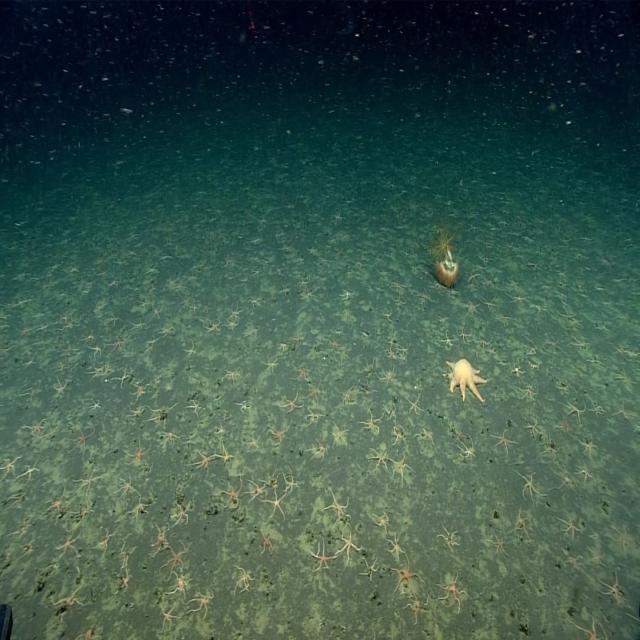brittle-stars: (441, 574, 466, 610), (575, 617, 613, 640), (76, 465, 105, 495), (396, 559, 422, 592), (516, 470, 541, 504), (598, 574, 624, 606), (164, 544, 187, 578), (337, 531, 360, 564), (52, 586, 84, 609), (327, 490, 351, 520), (311, 542, 334, 573), (611, 526, 635, 555), (408, 592, 430, 623), (221, 478, 243, 508), (193, 589, 215, 618), (126, 441, 150, 467), (70, 428, 94, 453), (267, 492, 287, 522), (614, 400, 638, 425), (553, 466, 576, 492), (58, 531, 79, 558), (492, 430, 514, 455), (558, 514, 579, 540), (440, 524, 461, 550), (235, 565, 255, 592), (391, 452, 411, 479), (514, 508, 531, 538), (564, 400, 586, 423), (489, 530, 508, 556), (47, 488, 66, 514), (360, 411, 381, 434), (0, 454, 19, 479), (172, 500, 190, 526), (162, 603, 180, 629), (152, 405, 174, 426), (246, 479, 266, 502), (22, 458, 42, 481), (309, 439, 328, 463), (131, 496, 150, 520), (78, 622, 103, 640), (6, 490, 27, 511), (282, 391, 302, 413), (369, 448, 388, 471), (172, 572, 191, 595), (94, 532, 112, 556), (120, 542, 137, 567), (269, 423, 289, 444), (260, 470, 281, 490), (575, 461, 594, 483), (116, 476, 135, 498), (154, 526, 170, 552), (361, 556, 378, 580), (15, 384, 40, 400), (615, 369, 636, 388), (75, 502, 93, 524), (518, 383, 538, 402), (195, 451, 215, 470), (28, 418, 47, 438), (334, 422, 349, 447), (307, 381, 324, 403), (543, 439, 560, 461), (588, 550, 606, 570), (388, 535, 404, 557), (262, 530, 276, 555), (8, 524, 31, 539), (564, 551, 582, 570), (557, 416, 574, 436), (374, 512, 390, 533), (54, 377, 69, 399), (341, 385, 356, 407), (223, 368, 241, 386), (108, 337, 126, 355), (161, 430, 180, 447), (460, 440, 476, 460), (525, 418, 541, 438), (570, 336, 590, 352), (379, 369, 396, 387), (408, 395, 424, 414), (216, 445, 232, 464), (283, 474, 298, 494), (119, 568, 132, 591), (307, 409, 324, 426), (456, 327, 472, 345), (60, 342, 78, 358), (612, 343, 630, 359), (587, 353, 606, 368), (582, 440, 598, 457), (419, 426, 434, 444), (417, 286, 432, 304), (384, 404, 398, 423), (392, 425, 406, 444), (482, 294, 498, 310), (264, 357, 280, 373), (230, 304, 246, 320), (133, 382, 148, 399), (293, 364, 308, 381), (509, 290, 526, 305), (590, 400, 604, 418), (115, 370, 129, 388), (512, 358, 525, 377), (361, 358, 374, 377), (186, 398, 201, 414), (464, 300, 479, 316), (130, 404, 145, 420), (525, 257, 542, 271), (246, 321, 260, 338), (338, 345, 352, 362), (292, 332, 306, 349), (150, 303, 163, 321), (555, 382, 570, 397), (206, 320, 222, 334), (496, 312, 512, 326), (64, 316, 78, 332), (18, 323, 34, 337), (544, 334, 560, 348), (184, 341, 196, 359), (106, 276, 121, 290), (340, 306, 354, 321), (442, 333, 455, 349), (340, 287, 356, 300), (453, 426, 466, 442), (160, 325, 176, 338), (329, 335, 341, 352), (90, 344, 104, 358), (224, 318, 238, 332), (478, 336, 492, 350), (132, 318, 147, 331), (247, 436, 260, 451), (167, 273, 179, 289), (84, 366, 103, 376), (95, 368, 114, 378), (146, 264, 159, 278), (379, 307, 392, 321), (393, 293, 406, 307), (81, 332, 95, 345), (105, 314, 120, 326), (391, 280, 406, 292), (526, 343, 538, 358), (249, 295, 262, 308), (237, 402, 250, 415), (299, 274, 311, 288), (138, 298, 150, 312), (91, 398, 103, 411), (321, 256, 333, 269), (222, 257, 234, 270), (186, 271, 198, 284), (482, 276, 494, 289), (509, 276, 520, 290), (215, 423, 225, 438), (161, 250, 173, 262), (183, 436, 195, 448), (305, 288, 317, 300), (386, 347, 397, 360), (308, 243, 319, 256), (203, 300, 213, 314), (379, 269, 392, 279), (398, 345, 408, 357), (248, 252, 258, 264), (528, 360, 540, 370), (468, 272, 480, 282), (252, 268, 262, 279), (488, 346, 498, 356), (190, 303, 200, 312), (148, 336, 158, 345), (278, 342, 286, 352)
